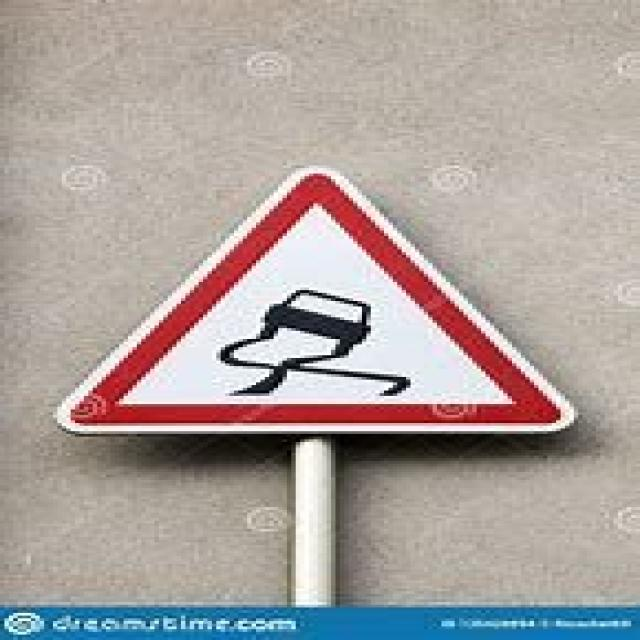SLIPPERY_ROAD: (42, 158, 590, 438)
